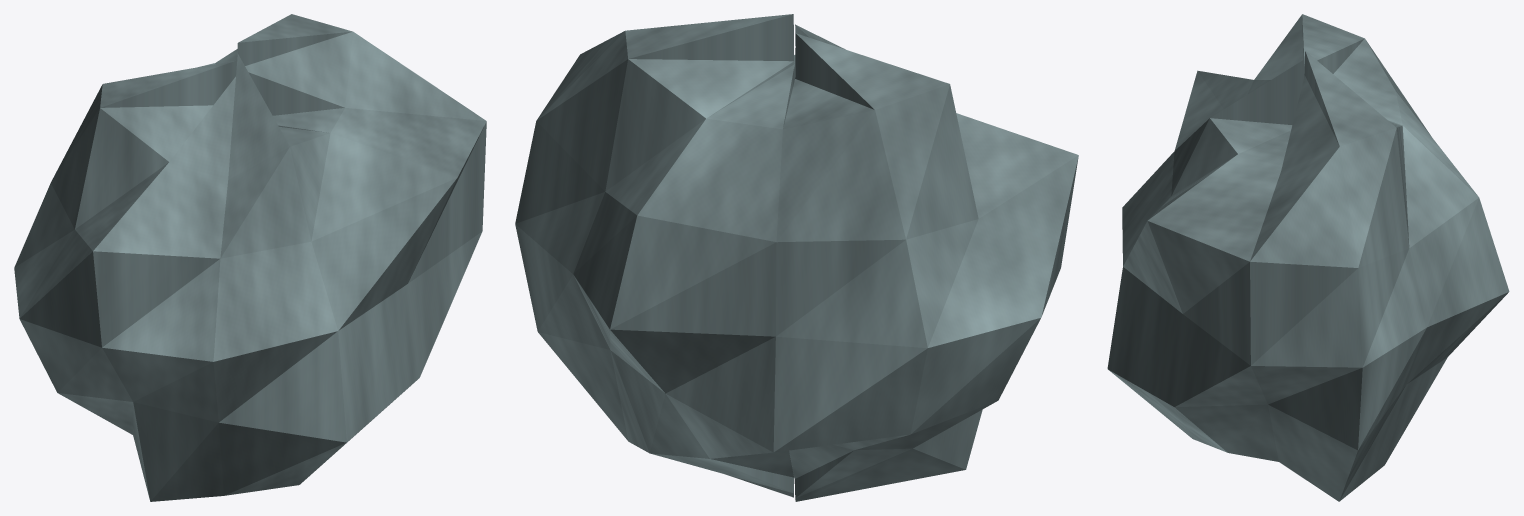
The model's file is coastal_rock_03.glb.
3 views of the same model, side by side, from view 1: azimuth 30°, elevation 25°; view 2: azimuth 150°, elevation 25°; view 3: azimuth 270°, elevation 25° (orthographic). The views are drawn at different scales.
Visible parts, largest first — view 1: rock; view 2: rock; view 3: rock.
Boxes of the visible parts, x1,y1,x2,y2 form: rock: [14, 14, 486, 501]; rock: [515, 14, 1078, 501]; rock: [1107, 14, 1509, 501].
Size of the model in its own units: 7.59 by 7.21 by 6.2.
1 material, 1 textured.
